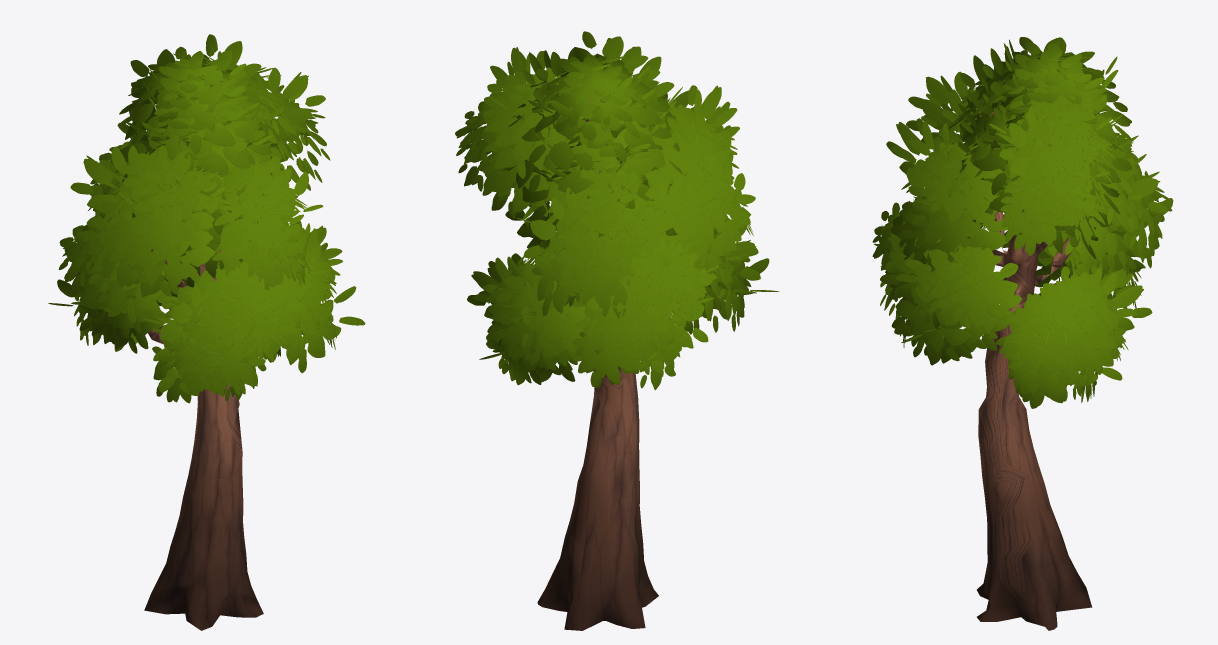
The model's file is CommonTree_1_far.gltf.
3 views of the same model, side by side, from view 1: azimuth 30°, elevation 25°; view 2: azimuth 150°, elevation 25°; view 3: azimuth 270°, elevation 25° (orthographic). The views are drawn at different scales.
Visible parts, largest first — view 1: CommonTree_1; view 2: CommonTree_1; view 3: CommonTree_1.
Part boxes in pixels (box(x1,y1,x2,y2)): CommonTree_1: box(48, 34, 365, 630); CommonTree_1: box(455, 31, 779, 630); CommonTree_1: box(872, 37, 1173, 630).
Size of the model in its own units: 3.95 by 7.2 by 4.09.
2 materials, 2 textured.
